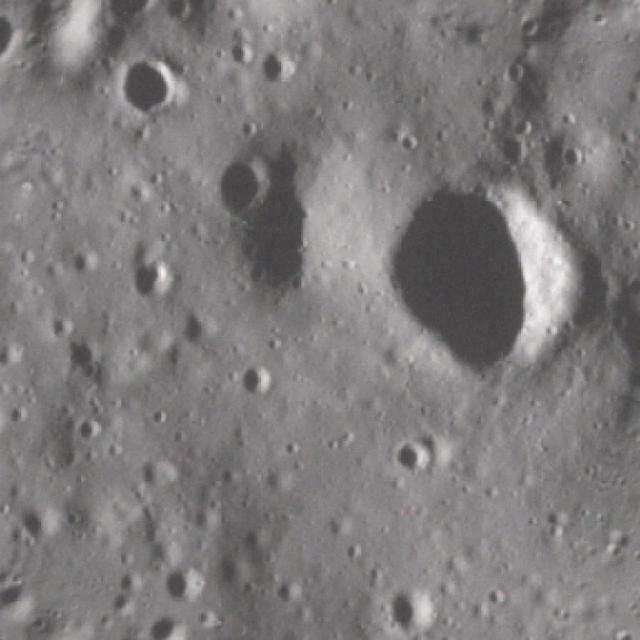crater: (336, 142, 622, 418), (215, 129, 358, 311), (105, 43, 202, 137), (198, 141, 284, 225), (0, 486, 75, 558), (110, 242, 181, 316), (372, 580, 448, 640), (130, 443, 192, 506), (376, 428, 442, 487), (246, 34, 309, 94), (87, 0, 171, 43), (152, 552, 210, 612), (229, 356, 285, 416), (172, 302, 228, 362), (595, 298, 640, 371), (58, 330, 116, 384), (483, 127, 537, 173), (66, 238, 111, 288), (234, 518, 280, 565), (600, 380, 634, 440), (221, 33, 264, 76), (266, 572, 312, 612), (494, 50, 532, 90), (555, 136, 591, 178), (68, 413, 104, 449), (157, 0, 203, 26), (390, 127, 427, 159), (508, 110, 540, 145), (620, 269, 640, 306)
